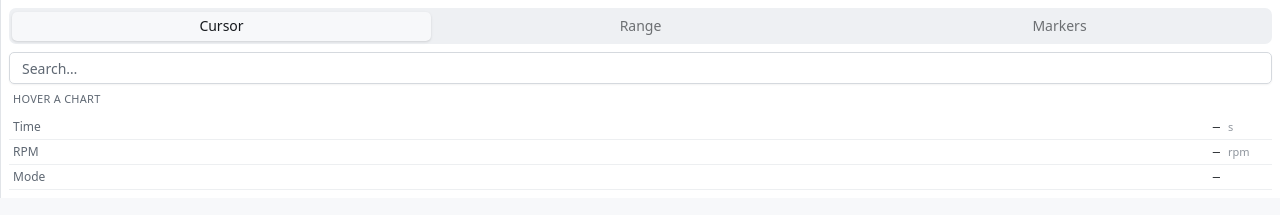
Test: search filters channels
Type "rp" into the field named "Search Inspector". click: [640, 68]
box: [9,52,1272,84]
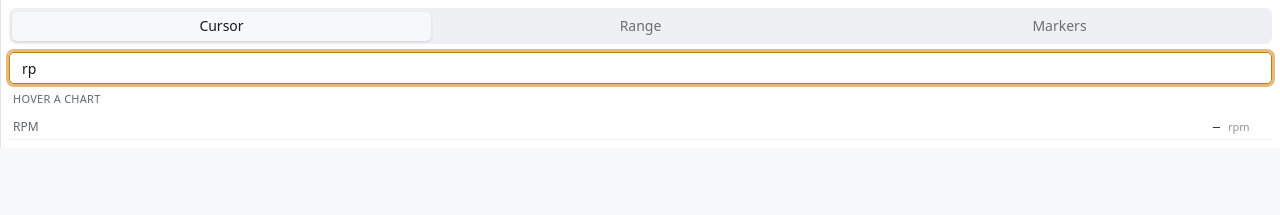
Now the number of elements with test id "inspector-row" is 1, box [9,115,1272,140]
